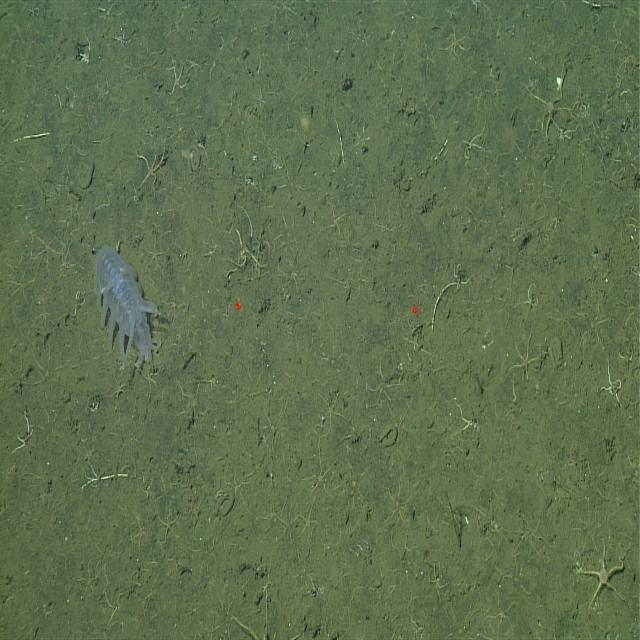Brittle Star: (570, 532, 631, 621), (522, 79, 580, 150), (171, 372, 212, 433), (505, 329, 546, 387), (594, 350, 630, 416), (132, 139, 172, 196), (485, 586, 520, 636), (439, 23, 473, 65)
Not Brittle Star: (90, 238, 163, 375)
